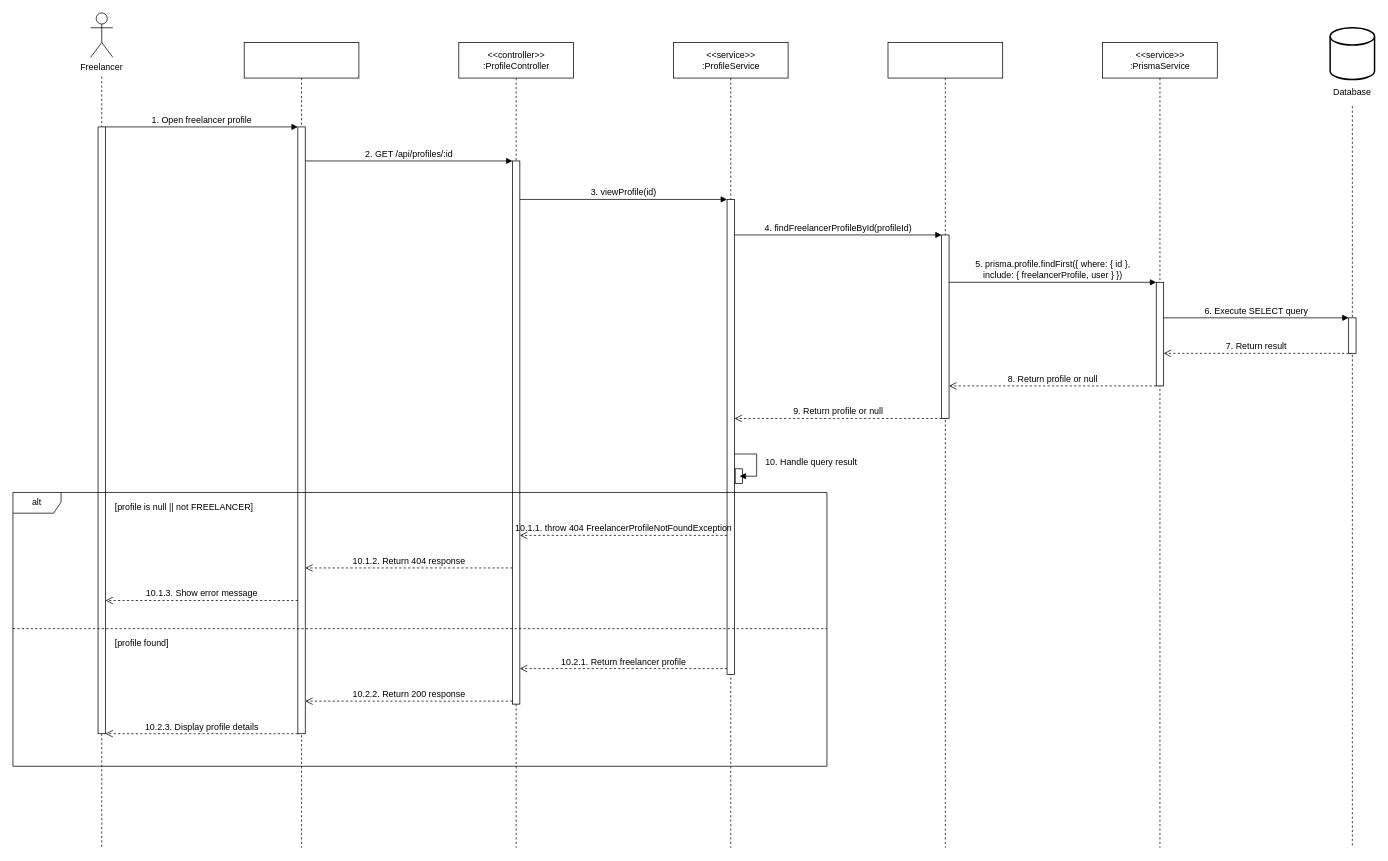
Some shapes in this 1388 by 861 pixel diagram are drawn without their labels. The box of each missing label's shape, as (x1, y1, x2, y2) in pixels:
<<boundary>> ProfileView: (243, 42, 359, 848)
<<repository>> :ProfileRepository: (887, 42, 1003, 848)
